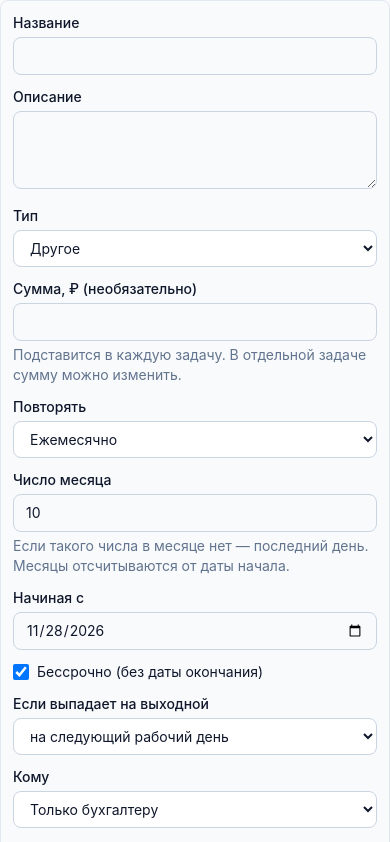
Test: форма напоминания › передаёт сумму платежа в копейках и не принимает неверную
This screenshot has width=390, height=842.
Later steps or results of the test are not shown.
Type "Аренда" into the field labelled "Название" at x=195, y=56, box [13,37,377,75]
Select "Платёж" in the dropdown labelled "Тип" at x=195, y=248, box [13,230,377,267]
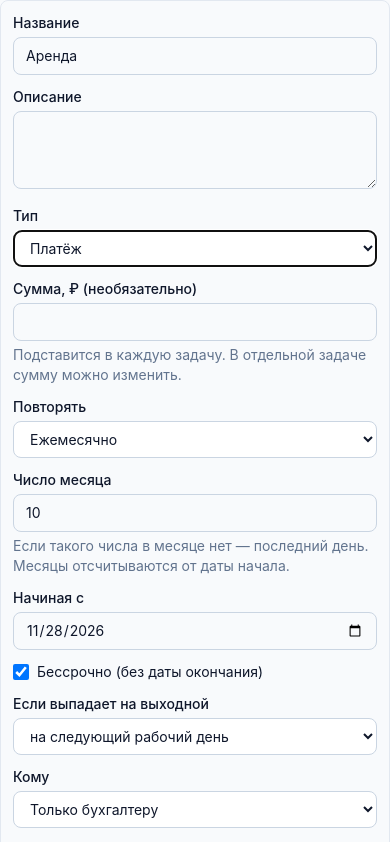
Type "много" into the field labelled "Сумма, ₽" at x=195, y=322, box [13,303,377,341]
(page scrolled)
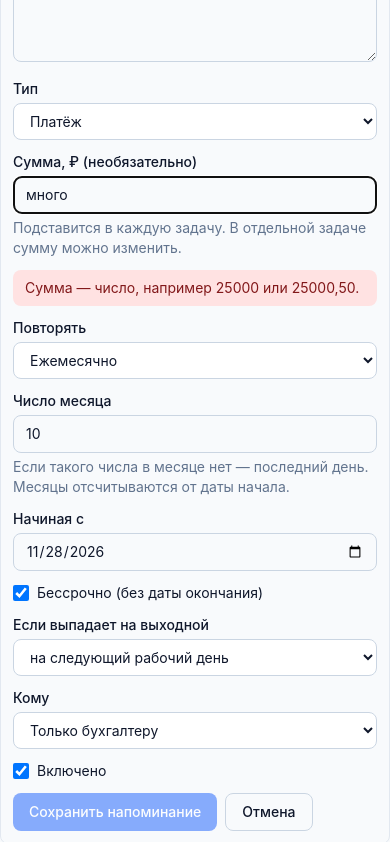
Click the button "Сохранить напоминание" at x=115, y=812, box [13,793,217,831]
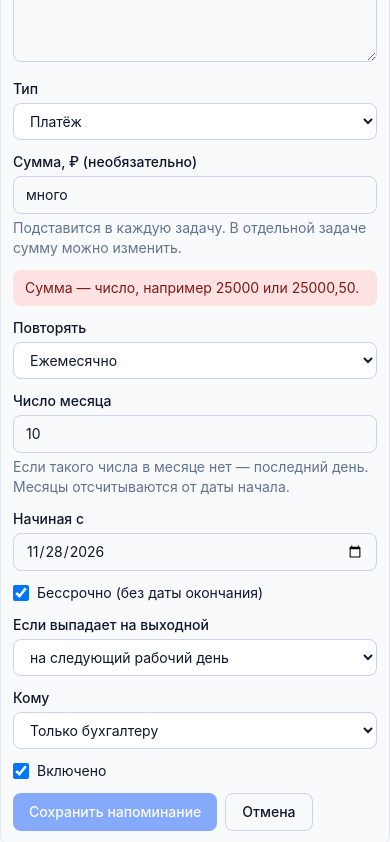
Clear the field labelled "Сумма, ₽" at x=195, y=195, box [13,176,377,214]
(page scrolled)
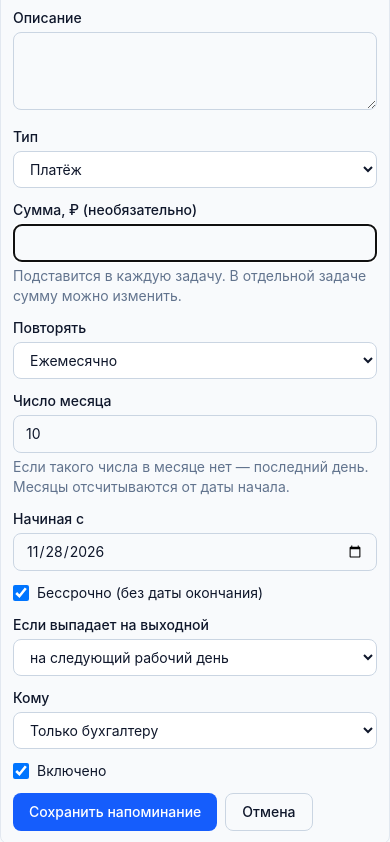
Type "25 000,00" into the field labelled "Сумма, ₽" at x=195, y=243, box [13,224,377,262]
Click the button "Сохранить напоминание" at x=115, y=812, box [13,793,217,831]
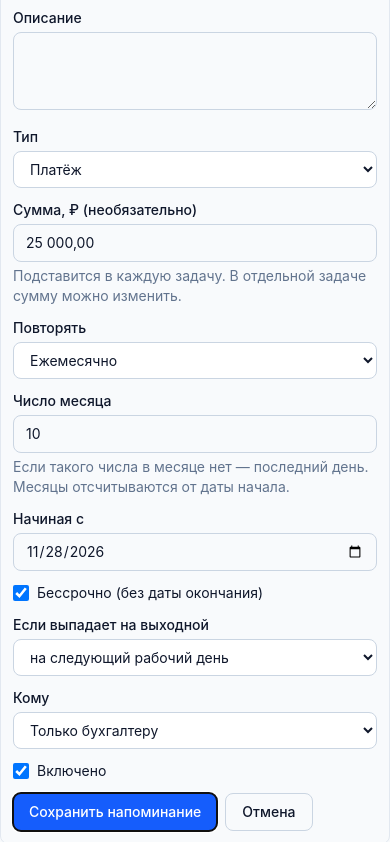
Select "Отчёт" in the dropdown labelled "Тип" at x=195, y=170, box [13,151,377,188]
(page scrolled)
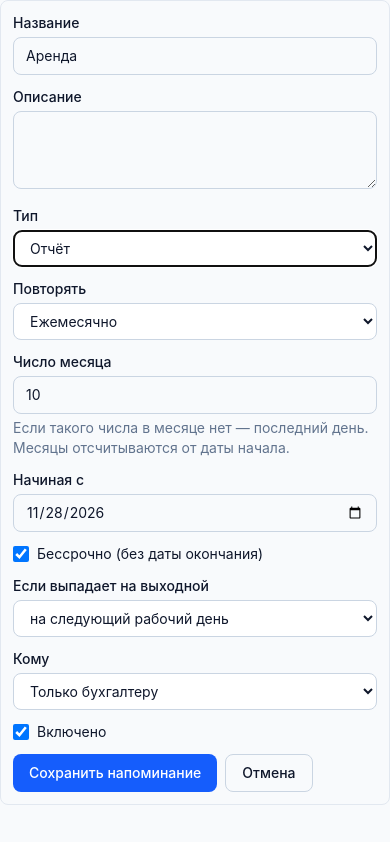
Expected: the text labelled "Сумма, ₽" is gone
